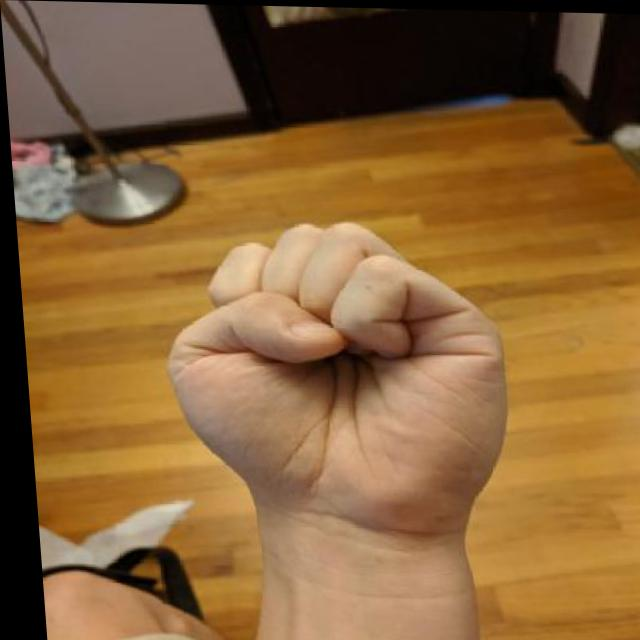E: (146, 211, 520, 545)
